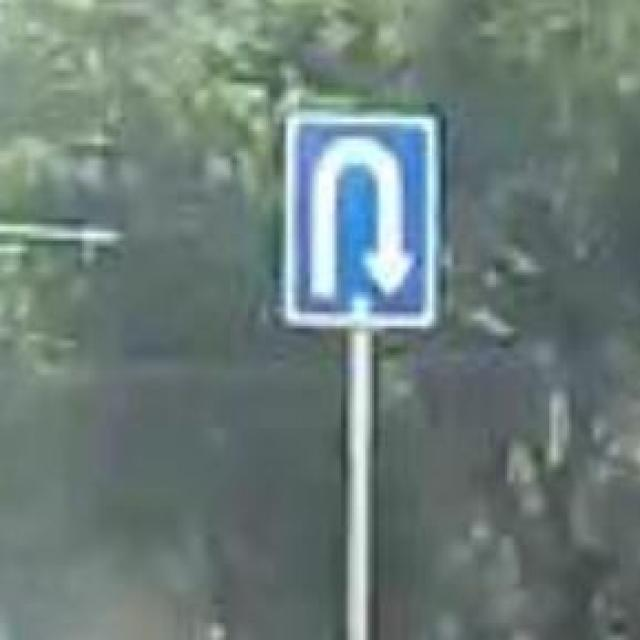traffic sign: (284, 112, 439, 328)
